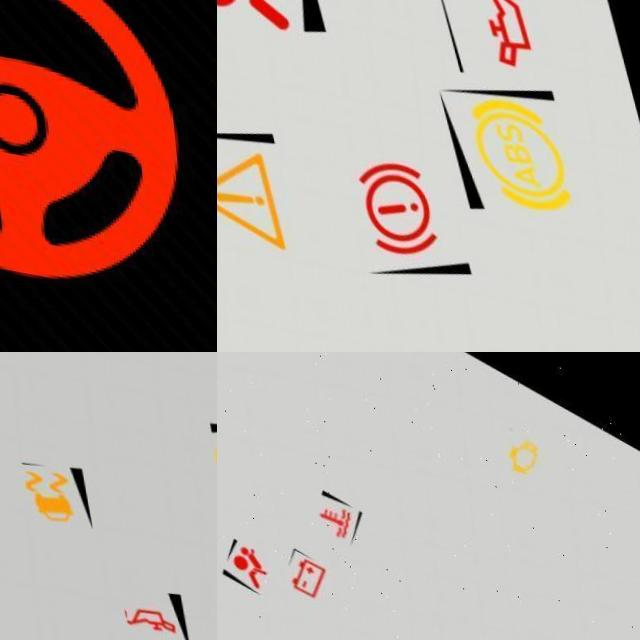Electronic Power Steering: (0, 0, 199, 305)
